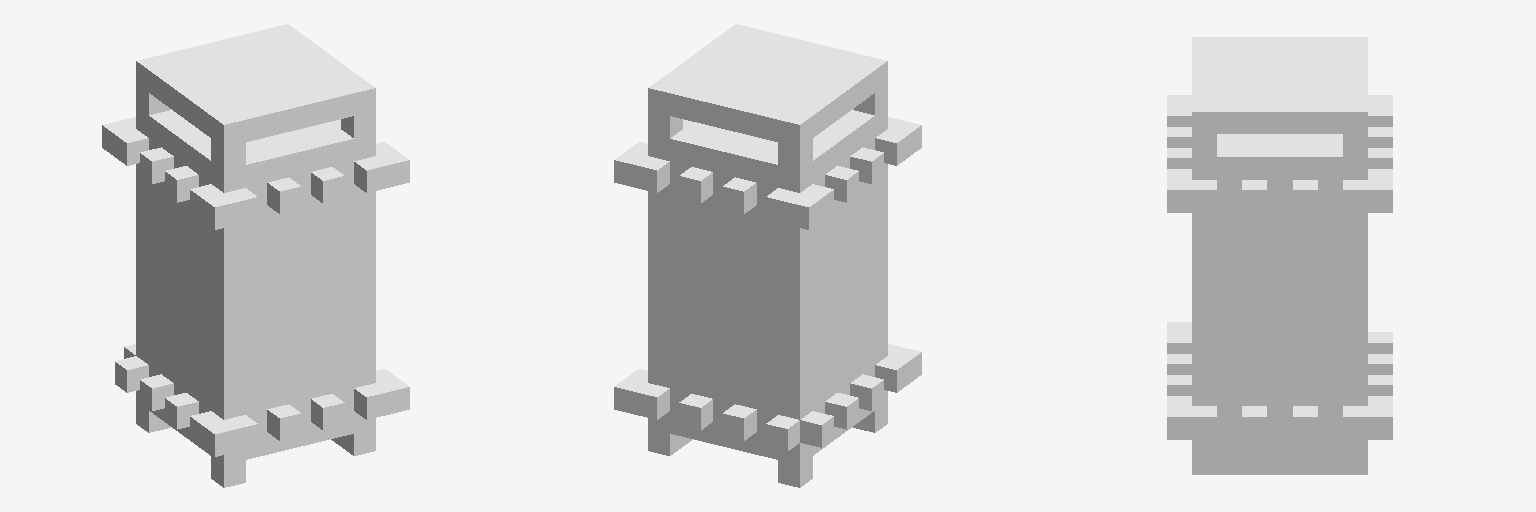
Rendered from WallCurved_Middle.obj.
The picture shows the model from 3 angles: view 1: azimuth 30°, elevation 25°; view 2: azimuth 150°, elevation 25°; view 3: azimuth 270°, elevation 25°; orthographic projection.
Parts seen in each view (by area): view 1: WallCurved_Middle; view 2: WallCurved_Middle; view 3: WallCurved_Middle.
Part boxes in pixels (x1,y1,x2,y2): WallCurved_Middle: (102,24,409,487); WallCurved_Middle: (614,24,921,487); WallCurved_Middle: (1167,37,1392,474).
Size of the model in its own units: 9 by 16 by 9.